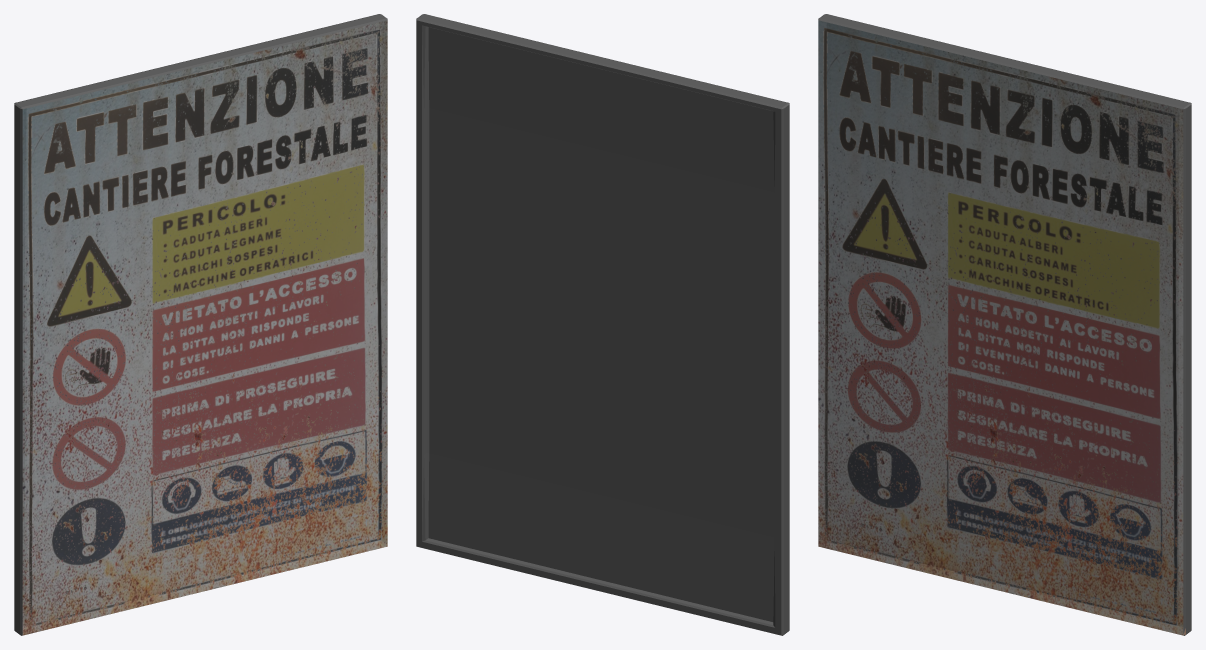
File: cartello_forestale.fbx
The picture shows the model from 3 angles, left to right: view 1: azimuth 30°, elevation 25°; view 2: azimuth 150°, elevation 25°; view 3: azimuth 330°, elevation 25°; orthographic projection.
Parts seen in each view (by area): view 1: Cube; view 2: Cube; view 3: Cube.
Part boxes in pixels (bbox=[...]): Cube: bbox=[14, 14, 387, 635]; Cube: bbox=[416, 14, 789, 635]; Cube: bbox=[818, 14, 1191, 635].
Bounding box in the file's own units: 200 × 275 × 8.07.
Materials: 2 (1 with a texture image).
